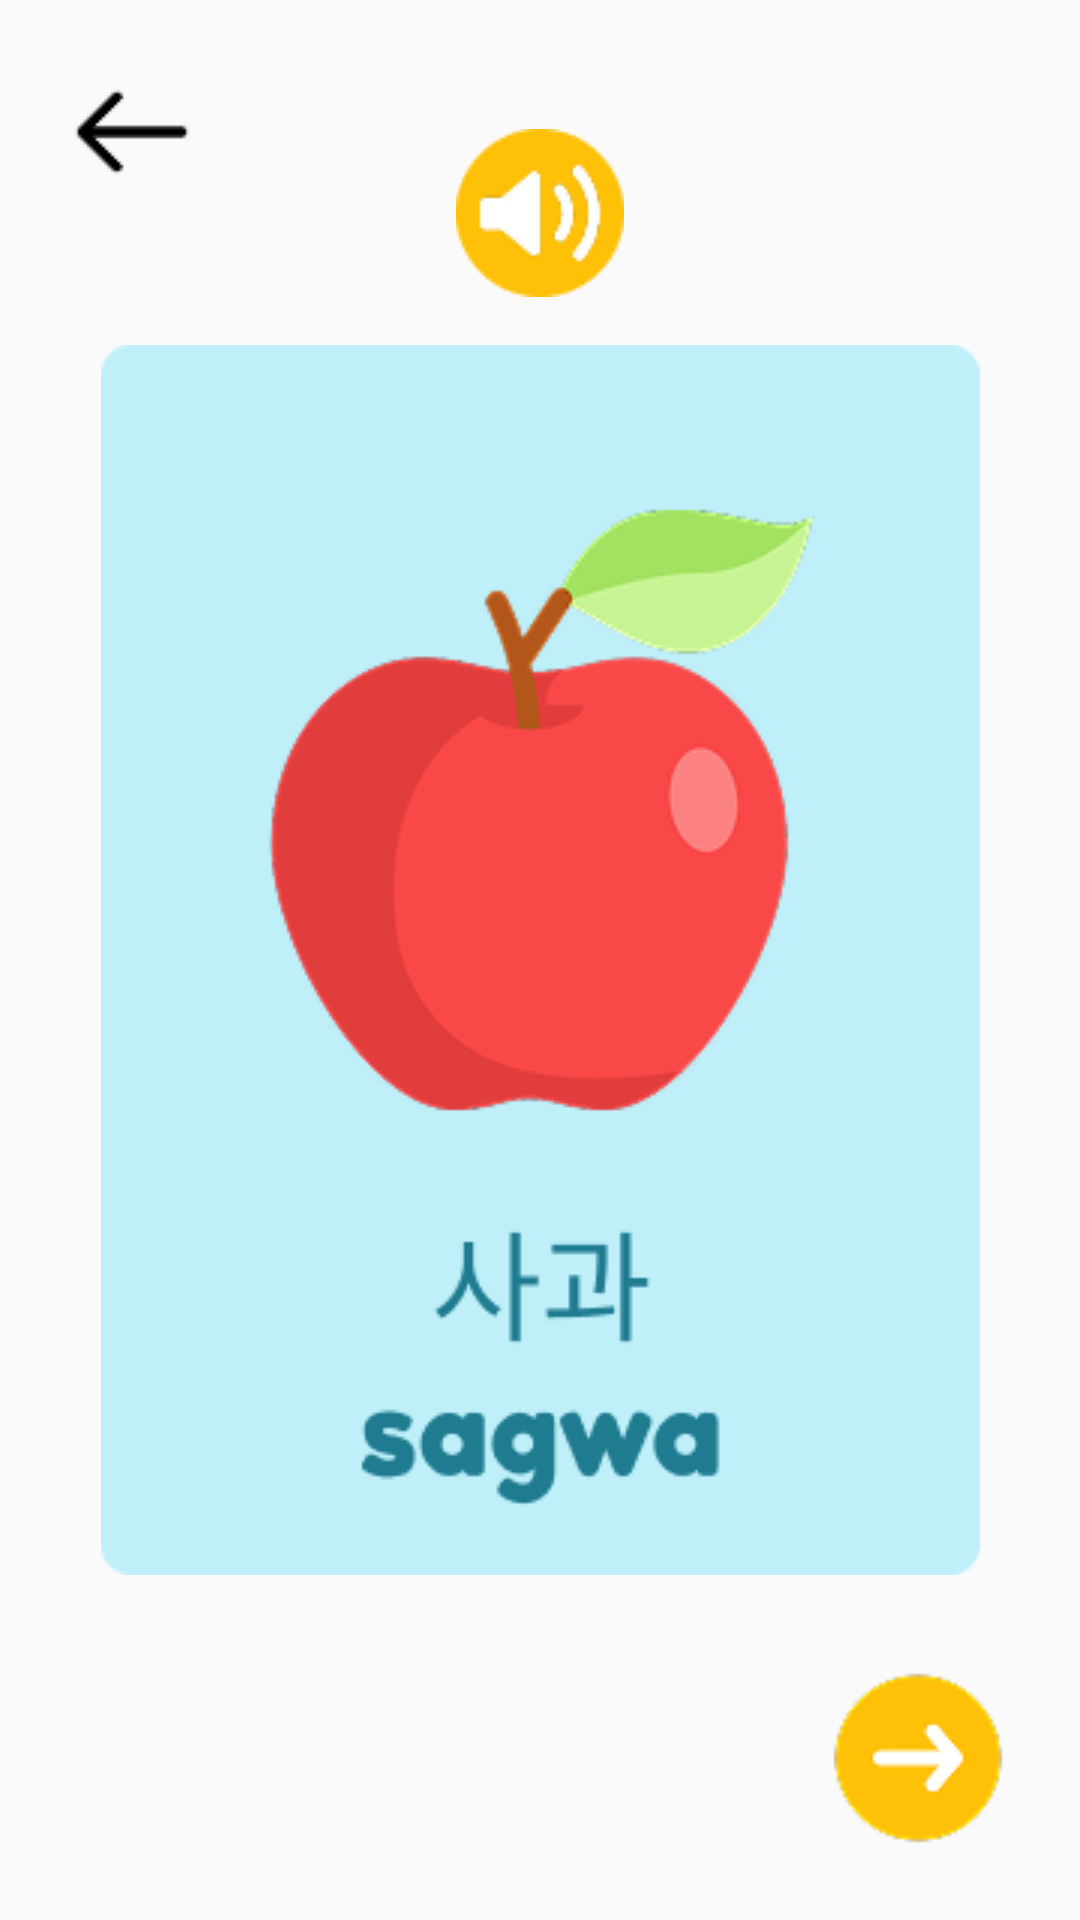

Where icons sit on this 1080×1920 app screen, as (x1, y1, x2, y2):
back home: (75, 90, 189, 173)
next: (833, 1673, 1003, 1843)
sound: (456, 129, 624, 297)
